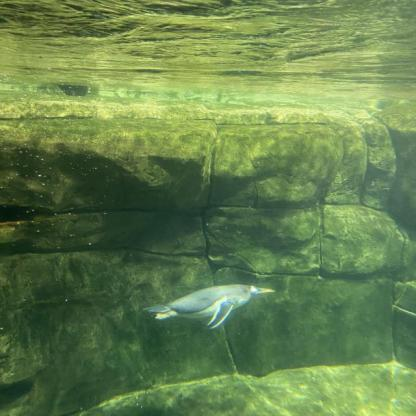penguin: (140, 284, 274, 332)
